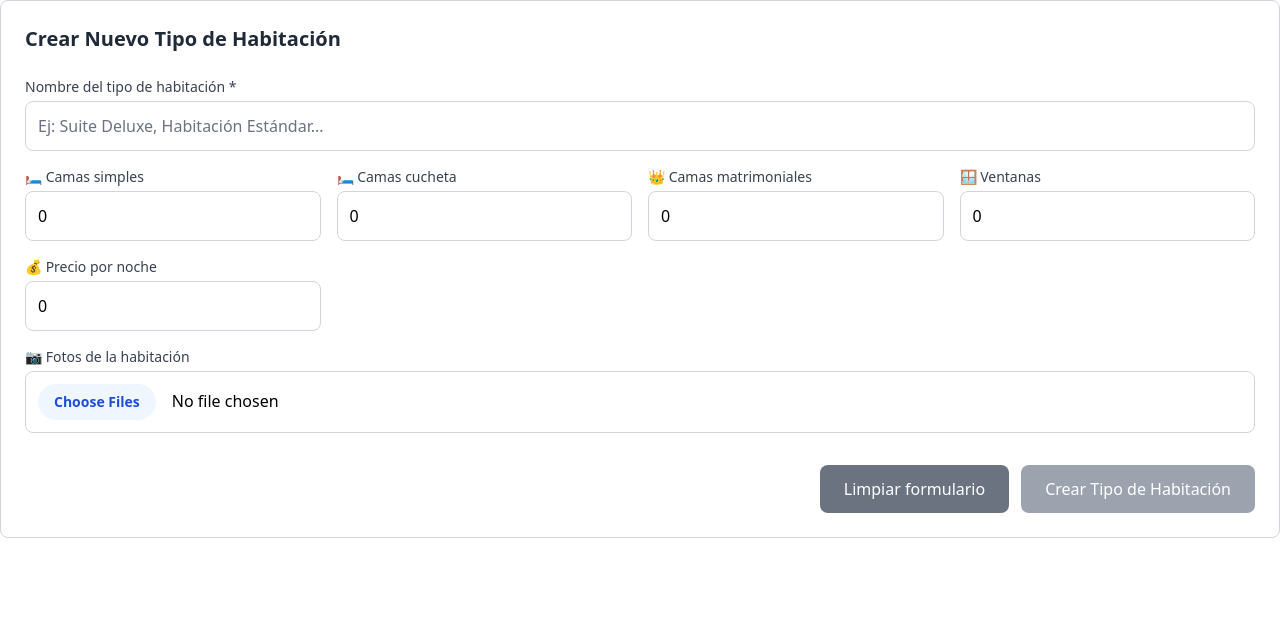
Test: RoomTypeForm › muestra un error si el servicio falla
The width and height of the screenshot is (1280, 621).
In the field labelled "Nombre del tipo de habitación *": {"x": 640, "y": 126} top-left (25, 101), bottom-right (1255, 151), type "Error Room"
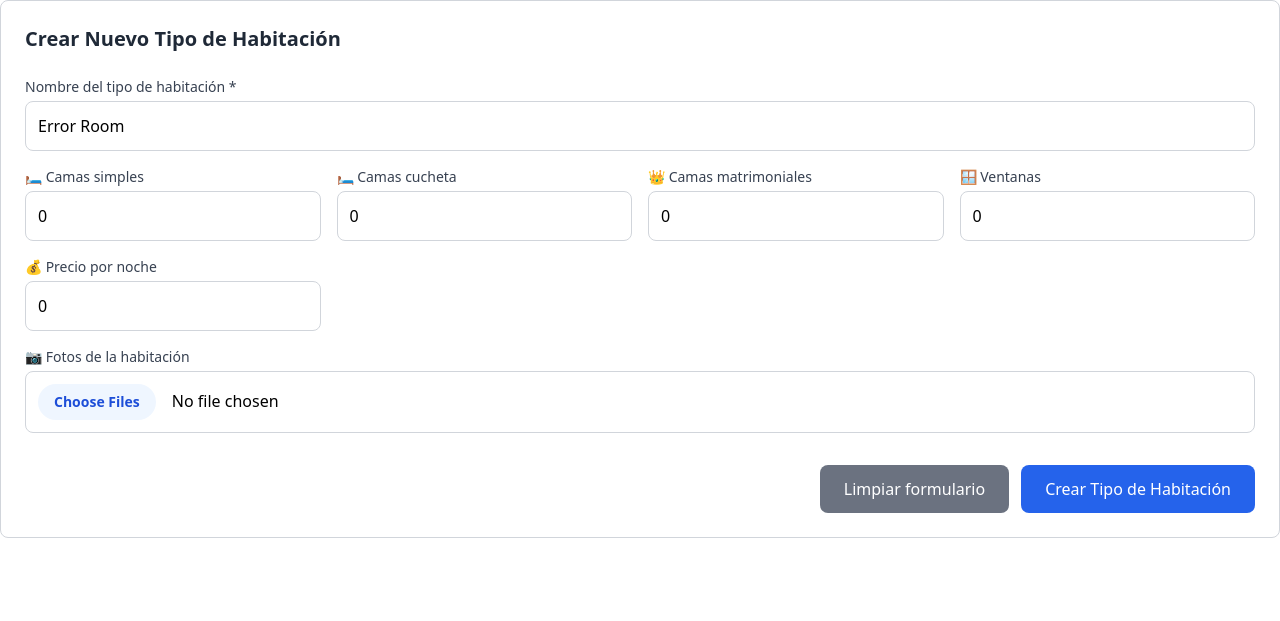
Click the button "Crear Tipo de Habitación": {"x": 1138, "y": 489} top-left (1021, 465), bottom-right (1255, 513)
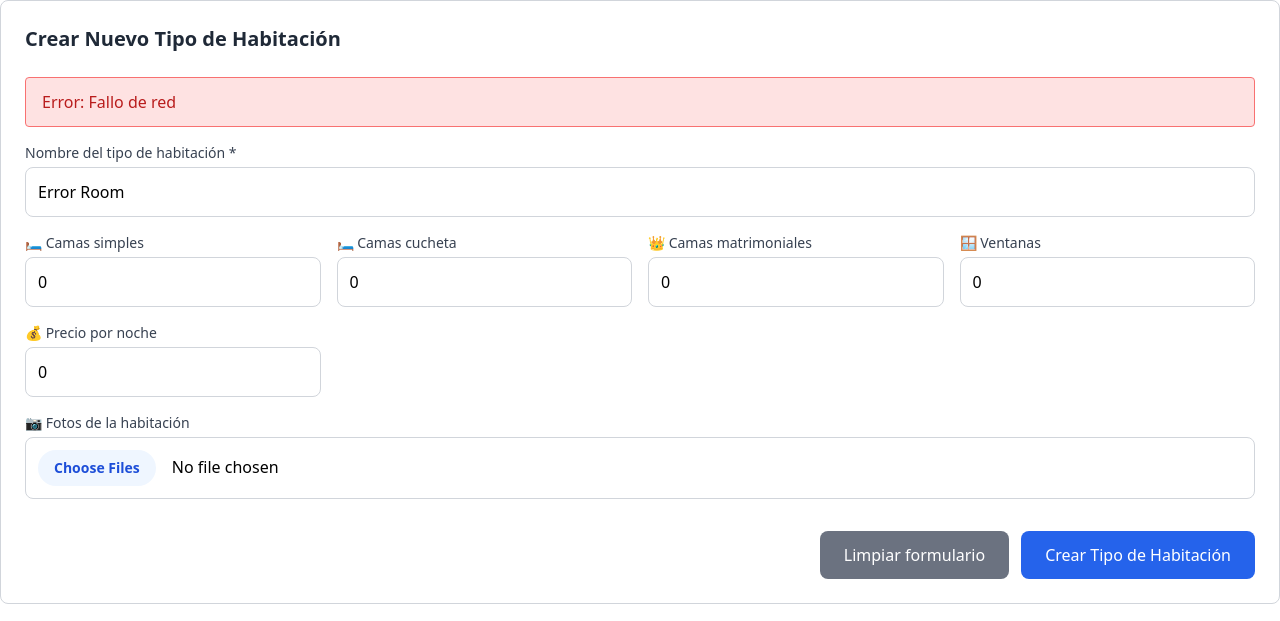
Now the text "Error: Fallo de red" is shown, box top-left (25, 77), bottom-right (1255, 127)
